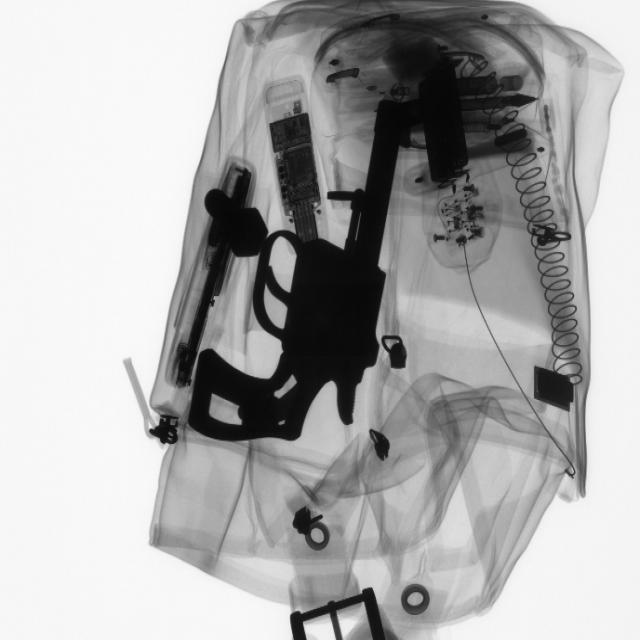GUN: (192, 123, 403, 449)
